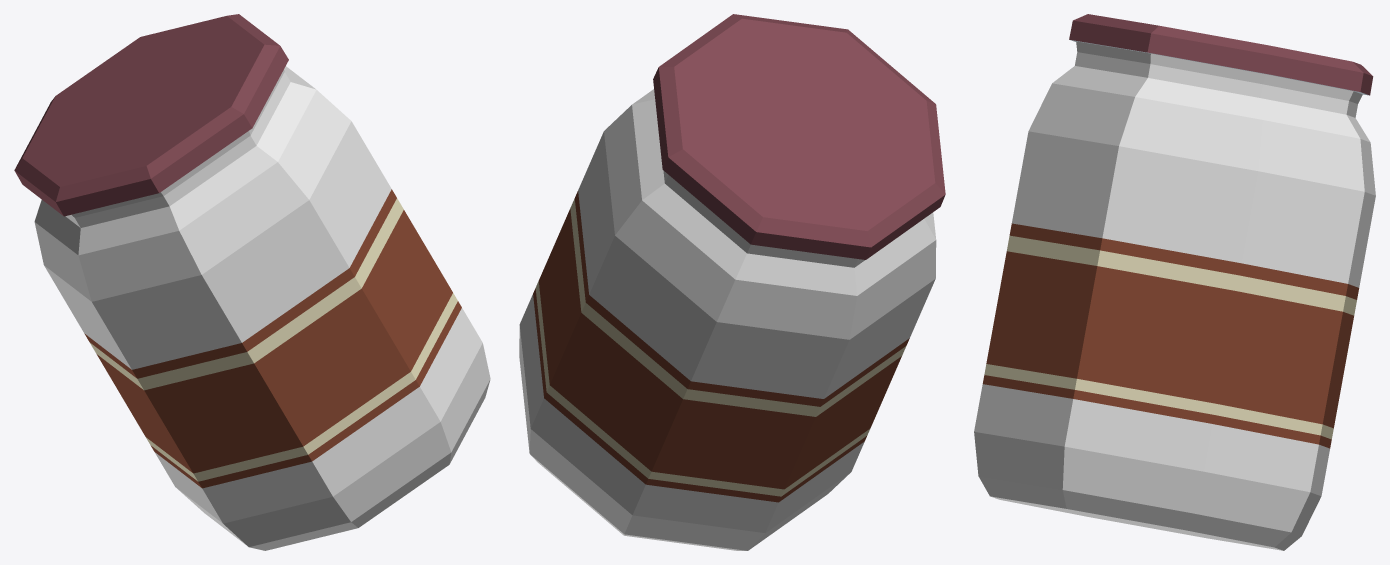
Rendered from Seasonings_Nutmeg.fbx.
The picture shows the model from 3 angles, left to right: view 1: azimuth 30°, elevation 25°; view 2: azimuth 150°, elevation 25°; view 3: azimuth 270°, elevation 25°; orthographic projection. The views are drawn at different scales.
Parts seen in each view (by area): view 1: Nutmeg; view 2: Nutmeg; view 3: Nutmeg.
Boxes of the visible parts, <box> form: Nutmeg: <box>14,14,490,550</box>; Nutmeg: <box>519,14,945,550</box>; Nutmeg: <box>974,14,1375,550</box>.
Size of the model in its own units: 106 by 124 by 86.47.
